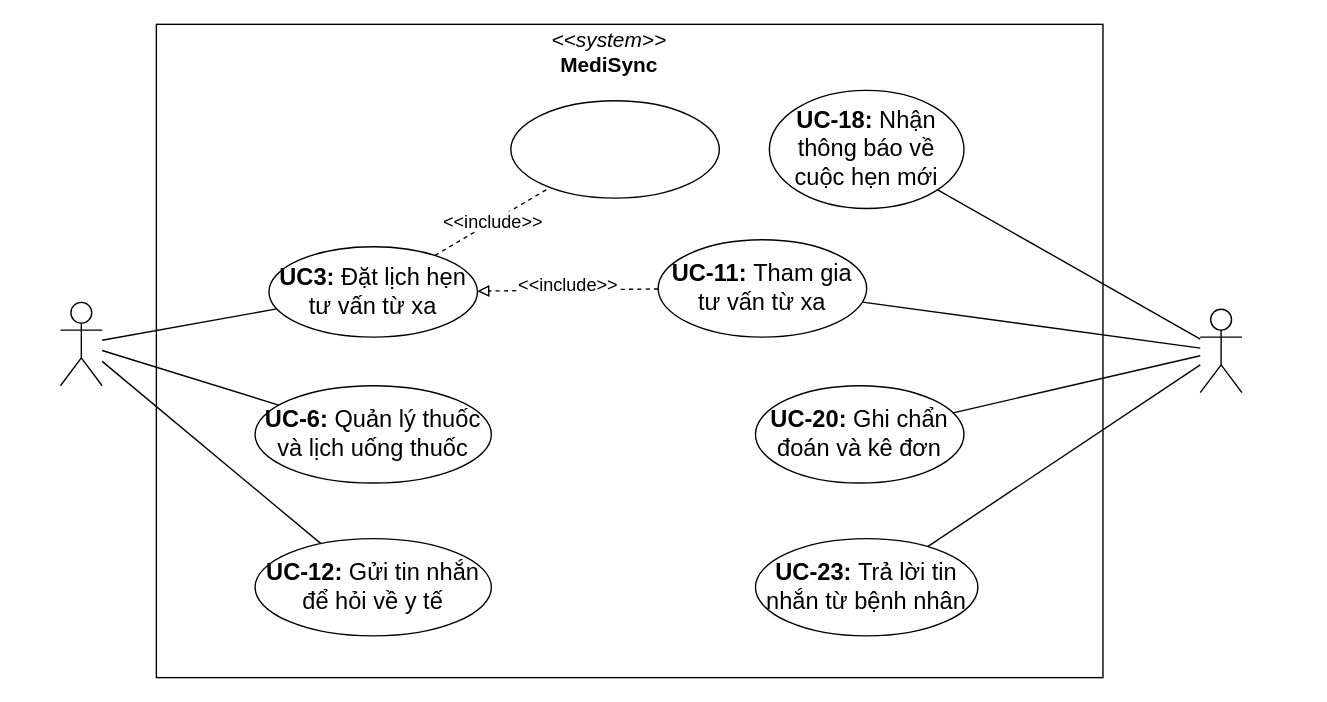
The diagram is 1327 pixels wide and 702 high, and some of its shapes have lost their labels. Each missing label, with the centre of its shape:
Bệnh nhân: the point at 80,343
Chuyên gia y tế: the point at 1220,350
UC-9: Nhận thông báo về lịch hẹn: the point at 614,148
